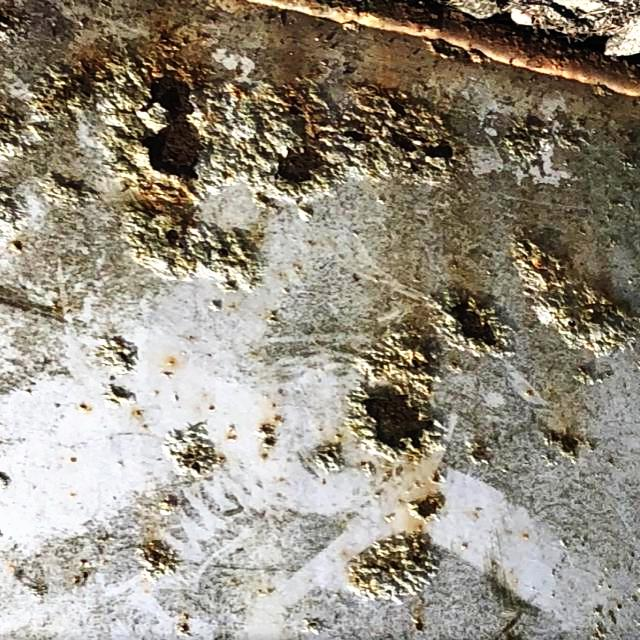Corrosion: (0, 0, 473, 308), (190, 0, 640, 111), (512, 230, 640, 354), (351, 315, 449, 468), (429, 287, 525, 361), (347, 532, 439, 604), (510, 112, 596, 157), (162, 422, 220, 478), (535, 430, 606, 471), (135, 542, 177, 584), (94, 336, 136, 374), (91, 381, 137, 409), (408, 494, 446, 524), (311, 446, 344, 473), (489, 619, 527, 640), (255, 424, 276, 460)
